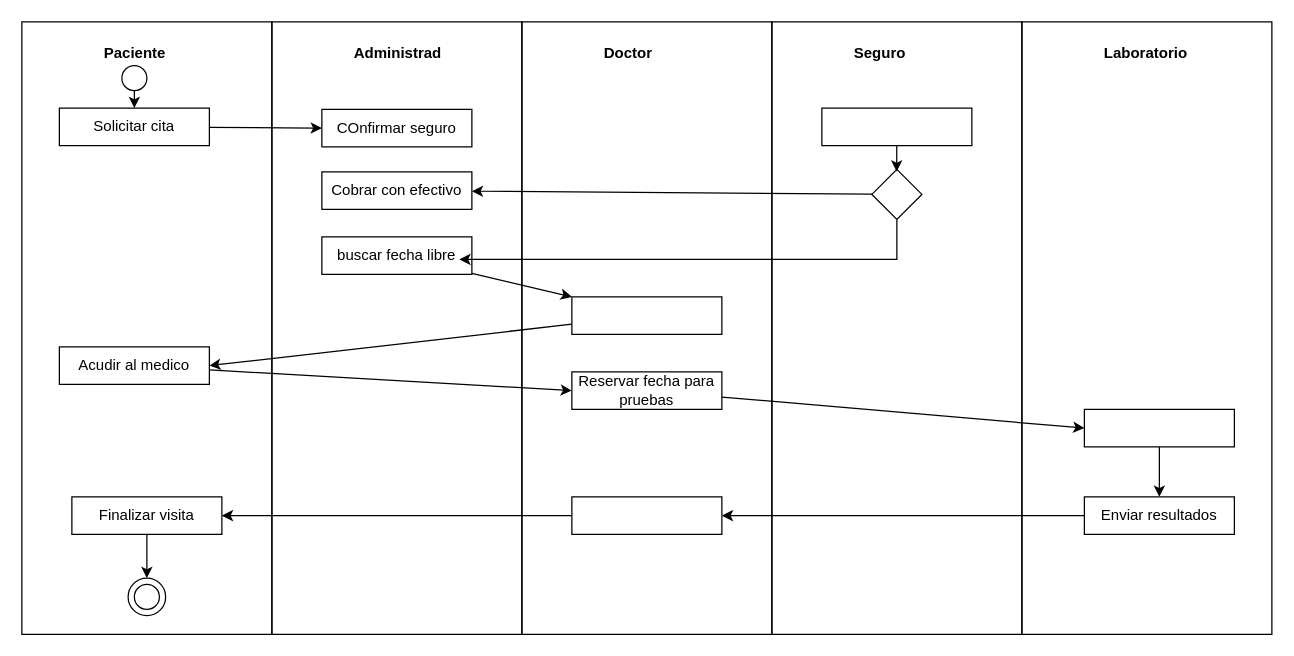
The diagram is 1294 pixels wide and 656 high, and some of its shapes have lost their labels. Here are the shapes that lost their labels. From the top down, the centre of each, then its label:
At [896,126]: "Respuesta sobre asegurado".
At [646,315]: "Confirmar fecha".
At [1158,427]: "Hacer analitica".
At [646,515]: "Prescripcion".
